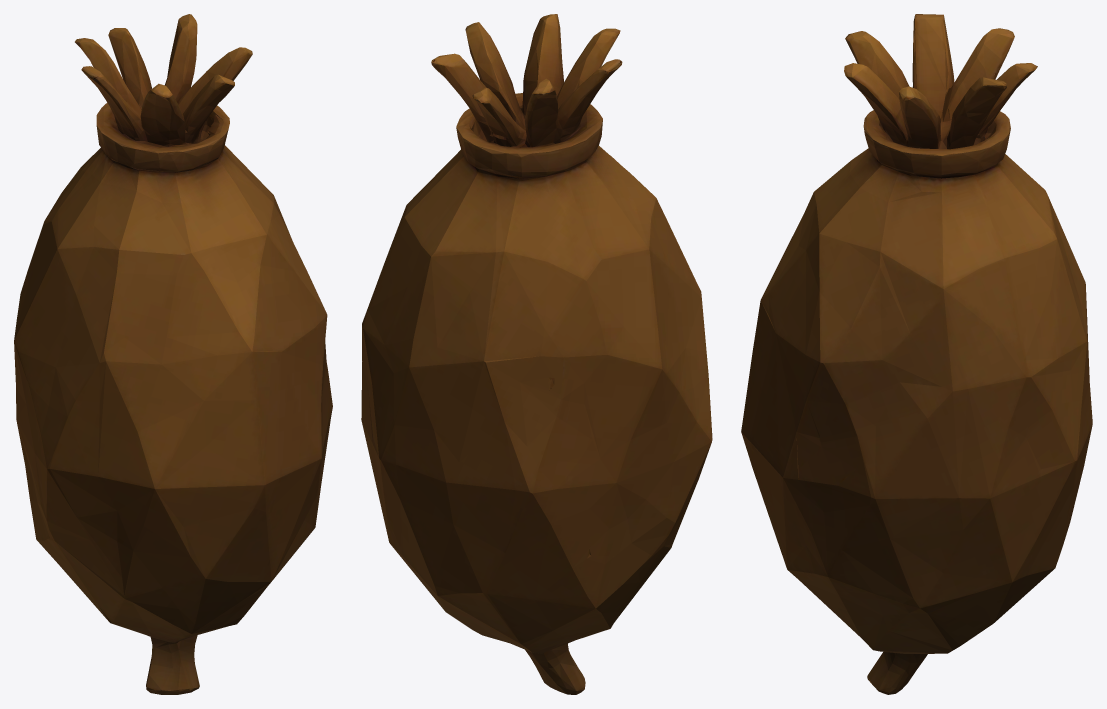
File: baobab_pod.glb
3 renders of one model, left to right at view 1: azimuth 30°, elevation 25°; view 2: azimuth 150°, elevation 25°; view 3: azimuth 270°, elevation 25°, orthographic. The views are drawn at different scales.
Visible parts, largest first — view 1: world; view 2: world; view 3: world.
Part boxes in pixels (x1,y1,x2,y2): world: (14, 14, 332, 694); world: (361, 14, 712, 694); world: (741, 14, 1092, 694).
Bounding box in the file's own units: 0.4792 × 0.9997 × 0.499.
1 material, 1 textured.
